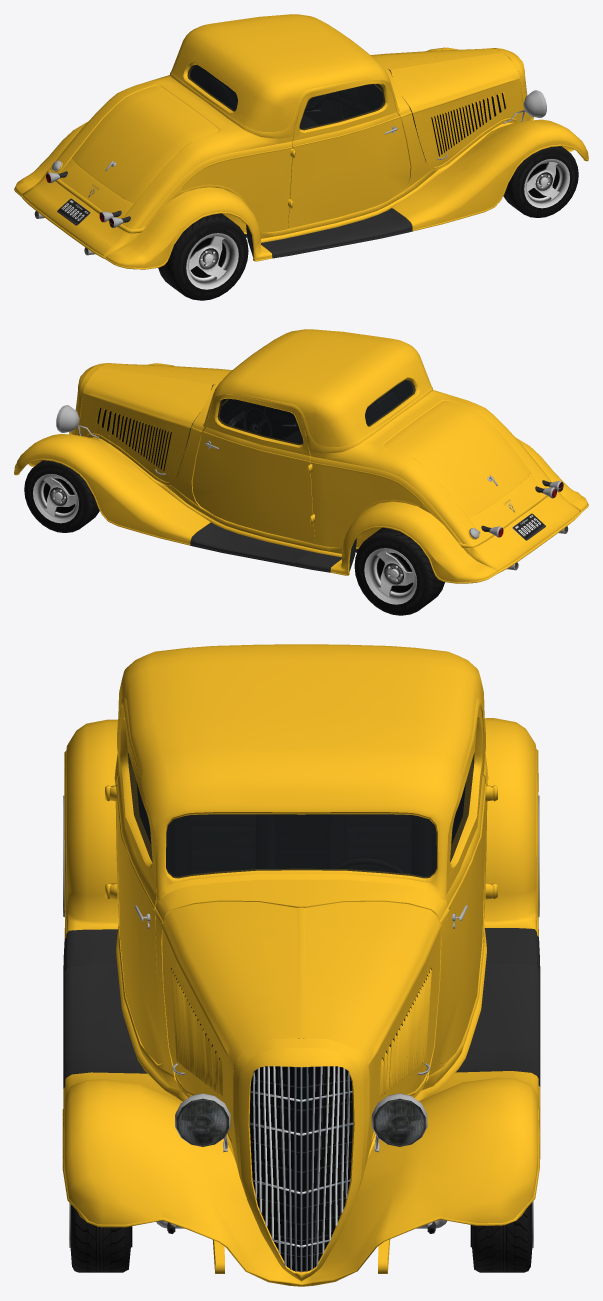
File: g-hotrod.glb
The picture shows the model from 3 angles, top to bottom: view 1: azimuth 30°, elevation 25°; view 2: azimuth 150°, elevation 25°; view 3: azimuth 270°, elevation 25°; orthographic projection. The views are drawn at different scales.
Visible parts, largest first — view 1: HOTROD_33A_body_HOTROD_33_bodymat_0, HOTROD_33B_Sideskirts_HOTROD_33_bodymat_0, HOTROD_33A_Trunkdoor_HOTROD_33_bodymat_0, HOTROD_33A_HoodCutted_HOTROD_33_bodymat_0, HOTROD_33_WheelBlades_RR_RB1c_Tire_1k_0, HOTROD_33_WheelBlades_FR_RB1c_Tire_1k_0, HOTROD_33A_HoodStock_HOTROD_33_bodymat_0, HOTROD_33B_Trim_UCB_BOTTOM_0, HOTROD_33A_interior_UCB_Interiors_2_0, HOTROD_33A_Glass_Passanger_UCB_Lights_and_Glass_Transperent_, HOTROD_33A_hoodStock_inner_UCB_BOTTOM_0, HOTROD_33A_Rear_window_UCB_Lights_and_Glass_Transperent_0 (+2 smaller); view 2: HOTROD_33A_body_HOTROD_33_bodymat_0, HOTROD_33B_Sideskirts_HOTROD_33_bodymat_0, HOTROD_33A_Trunkdoor_HOTROD_33_bodymat_0, HOTROD_33A_HoodCutted_HOTROD_33_bodymat_0, HOTROD_33_WheelBlades_RL_RB1c_Tire_1k_0, HOTROD_33_WheelBlades_FL_RB1c_Tire_1k_0, HOTROD_33B_Trim_UCB_BOTTOM_0, HOTROD_33A_HoodStock_HOTROD_33_bodymat_0, HOTROD_33A_interior_UCB_Interiors_2_0, HOTROD_33A_Glass_Driver_UCB_Lights_and_Glass_Transperent_0, HOTROD_33A_hoodStock_inner_UCB_BOTTOM_0, HOTROD_33A_Rear_window_UCB_Lights_and_Glass_Transperent_0 (+2 smaller); view 3: HOTROD_33A_body_HOTROD_33_bodymat_0, HOTROD_33B_Sideskirts_HOTROD_33_bodymat_0, HOTROD_33A_HoodCutted_HOTROD_33_bodymat_0, HOTROD_33B_Trim_UCB_BOTTOM_0, HOTROD_33A_Bottom_UCB_BOTTOM_0, HOTROD_33A_Windshield_UCB_Lights_and_Glass_Transperent_0, HOTROD_33A_interior_UCB_Interiors_2_0, HOTROD_33A_HoodStock_HOTROD_33_bodymat_0, HOTROD_33B_Grill_HOTROD_33_bodymat_0, HOTROD_33B_Headlights_Glass_UCB_Lights_and_Glass_Transperent, HOTROD_33B_Headlights_UCB_Lights_and_Glass_0, HOTROD_33_WheelBlades_FL_RB1c_Tire_1k_0 (+3 smaller).
Part boxes in pixels (left/top/right/bottom): HOTROD_33A_body_HOTROD_33_bodymat_0: left=47, top=14, right=573, bottom=244; HOTROD_33B_Sideskirts_HOTROD_33_bodymat_0: left=14, top=47, right=588, bottom=269; HOTROD_33A_Trunkdoor_HOTROD_33_bodymat_0: left=72, top=85, right=219, bottom=203; HOTROD_33A_HoodCutted_HOTROD_33_bodymat_0: left=371, top=48, right=525, bottom=170; HOTROD_33_WheelBlades_RR_RB1c_Tire_1k_0: left=158, top=213, right=248, bottom=300; HOTROD_33_WheelBlades_FR_RB1c_Tire_1k_0: left=503, top=146, right=578, bottom=217; HOTROD_33A_HoodStock_HOTROD_33_bodymat_0: left=386, top=53, right=516, bottom=169; HOTROD_33B_Trim_UCB_BOTTOM_0: left=46, top=90, right=546, bottom=258; HOTROD_33A_interior_UCB_Interiors_2_0: left=190, top=65, right=399, bottom=128; HOTROD_33A_Glass_Passanger_UCB_Lights_and_Glass_Transperent_: left=299, top=83, right=385, bottom=130; HOTROD_33A_hoodStock_inner_UCB_BOTTOM_0: left=388, top=69, right=505, bottom=162; HOTROD_33A_Rear_window_UCB_Lights_and_Glass_Transperent_0: left=187, top=64, right=237, bottom=111; HOTROD_33A_body_HOTROD_33_bodymat_0: left=28, top=329, right=567, bottom=557; HOTROD_33B_Sideskirts_HOTROD_33_bodymat_0: left=14, top=363, right=588, bottom=583; HOTROD_33A_Trunkdoor_HOTROD_33_bodymat_0: left=383, top=400, right=530, bottom=518; HOTROD_33A_HoodCutted_HOTROD_33_bodymat_0: left=77, top=363, right=231, bottom=485; HOTROD_33_WheelBlades_RL_RB1c_Tire_1k_0: left=354, top=527, right=444, bottom=615; HOTROD_33_WheelBlades_FL_RB1c_Tire_1k_0: left=24, top=460, right=99, bottom=532; HOTROD_33B_Trim_UCB_BOTTOM_0: left=56, top=405, right=356, bottom=572; HOTROD_33A_HoodStock_HOTROD_33_bodymat_0: left=96, top=368, right=216, bottom=484; HOTROD_33A_interior_UCB_Interiors_2_0: left=203, top=380, right=412, bottom=443; HOTROD_33A_Glass_Driver_UCB_Lights_and_Glass_Transperent_0: left=217, top=398, right=303, bottom=445; HOTROD_33A_hoodStock_inner_UCB_BOTTOM_0: left=97, top=384, right=214, bottom=476; HOTROD_33A_Rear_window_UCB_Lights_and_Glass_Transperent_0: left=365, top=379, right=415, bottom=426; HOTROD_33A_body_HOTROD_33_bodymat_0: left=105, top=644, right=497, bottom=1273; HOTROD_33B_Sideskirts_HOTROD_33_bodymat_0: left=62, top=718, right=540, bottom=1286; HOTROD_33A_HoodCutted_HOTROD_33_bodymat_0: left=161, top=901, right=441, bottom=1172; HOTROD_33B_Trim_UCB_BOTTOM_0: left=63, top=928, right=540, bottom=1152; HOTROD_33A_Bottom_UCB_BOTTOM_0: left=134, top=905, right=467, bottom=1272; HOTROD_33A_Windshield_UCB_Lights_and_Glass_Transperent_0: left=166, top=814, right=436, bottom=878; HOTROD_33A_interior_UCB_Interiors_2_0: left=137, top=785, right=464, bottom=876; HOTROD_33A_HoodStock_HOTROD_33_bodymat_0: left=161, top=901, right=431, bottom=1097; HOTROD_33B_Grill_HOTROD_33_bodymat_0: left=238, top=1047, right=364, bottom=1281; HOTROD_33B_Headlights_Glass_UCB_Lights_and_Glass_Transperent: left=176, top=1098, right=425, bottom=1146; HOTROD_33B_Headlights_UCB_Lights_and_Glass_0: left=177, top=1099, right=424, bottom=1146; HOTROD_33_WheelBlades_FL_RB1c_Tire_1k_0: left=470, top=1201, right=533, bottom=1272.
Size of the model in its own units: 4.28 by 1.54 by 1.79.
Materials: 8 (7 with a texture image).
